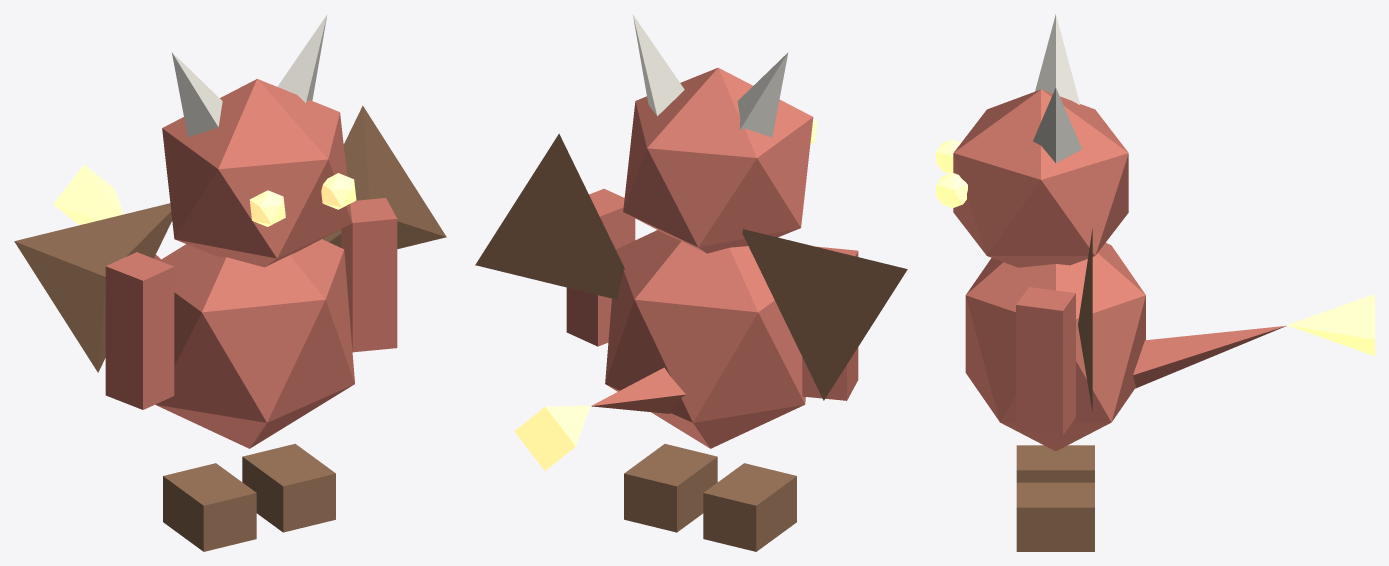
File: imp.glb
3 renders of one model, left to right at view 1: azimuth 30°, elevation 25°; view 2: azimuth 150°, elevation 25°; view 3: azimuth 270°, elevation 25°, orthographic. The views are drawn at different scales.
Visible parts, largest first — view 1: body.008, head.013, wing_l.001, arm_l.011, arm_r.011, foot_l.007, foot_r.007, wing_r.001, tail_tip, horn_l.001, horn_r.001, eye_l.019 (+1 smaller); view 2: body.008, head.013, wing_l.001, wing_r.001, foot_l.007, foot_r.007, arm_r.011, tail_tip, tail.001, horn_l.001, horn_r.001, arm_l.011; view 3: head.013, body.008, arm_r.011, foot_r.007, tail.001, foot_l.007, tail_tip, horn_r.001, horn_l.001, wing_r.001, eye_r.019, eye_l.019.
Boxes of the visible parts, box(x1,y1,x2,y2) form: body.008: box(155, 239, 354, 448); head.013: box(162, 79, 352, 267); wing_l.001: box(14, 203, 172, 372); arm_l.011: box(105, 252, 174, 409); arm_r.011: box(341, 198, 397, 352); foot_l.007: box(163, 463, 256, 551); foot_r.007: box(242, 443, 335, 532); wing_r.001: box(322, 105, 446, 249); tail_tip: box(53, 164, 123, 225); horn_l.001: box(171, 52, 222, 137); horn_r.001: box(277, 14, 327, 102); eye_l.019: box(249, 190, 285, 226); body.008: box(605, 230, 805, 448); head.013: box(623, 67, 813, 253); wing_l.001: box(742, 229, 907, 400); wing_r.001: box(475, 133, 624, 299); foot_l.007: box(703, 463, 796, 551); foot_r.007: box(624, 444, 717, 532); arm_r.011: box(566, 188, 635, 346); tail_tip: box(514, 405, 590, 470); tail.001: box(591, 367, 685, 413); horn_l.001: box(737, 52, 788, 137); horn_r.001: box(632, 14, 684, 116); arm_l.011: box(802, 246, 858, 400); head.013: box(953, 89, 1128, 267); body.008: box(965, 242, 1145, 451); arm_r.011: box(1016, 287, 1075, 435); foot_r.007: box(1016, 482, 1094, 551); tail.001: box(1133, 325, 1286, 388); foot_l.007: box(1016, 445, 1094, 482); tail_tip: box(1287, 294, 1374, 355); horn_r.001: box(1033, 87, 1081, 162); horn_l.001: box(1035, 14, 1080, 104); wing_r.001: box(1078, 228, 1092, 411); eye_r.019: box(936, 172, 967, 208); eye_l.019: box(936, 139, 960, 173).
Size of the model in its own units: 0.9811 by 1.06 by 0.894.
